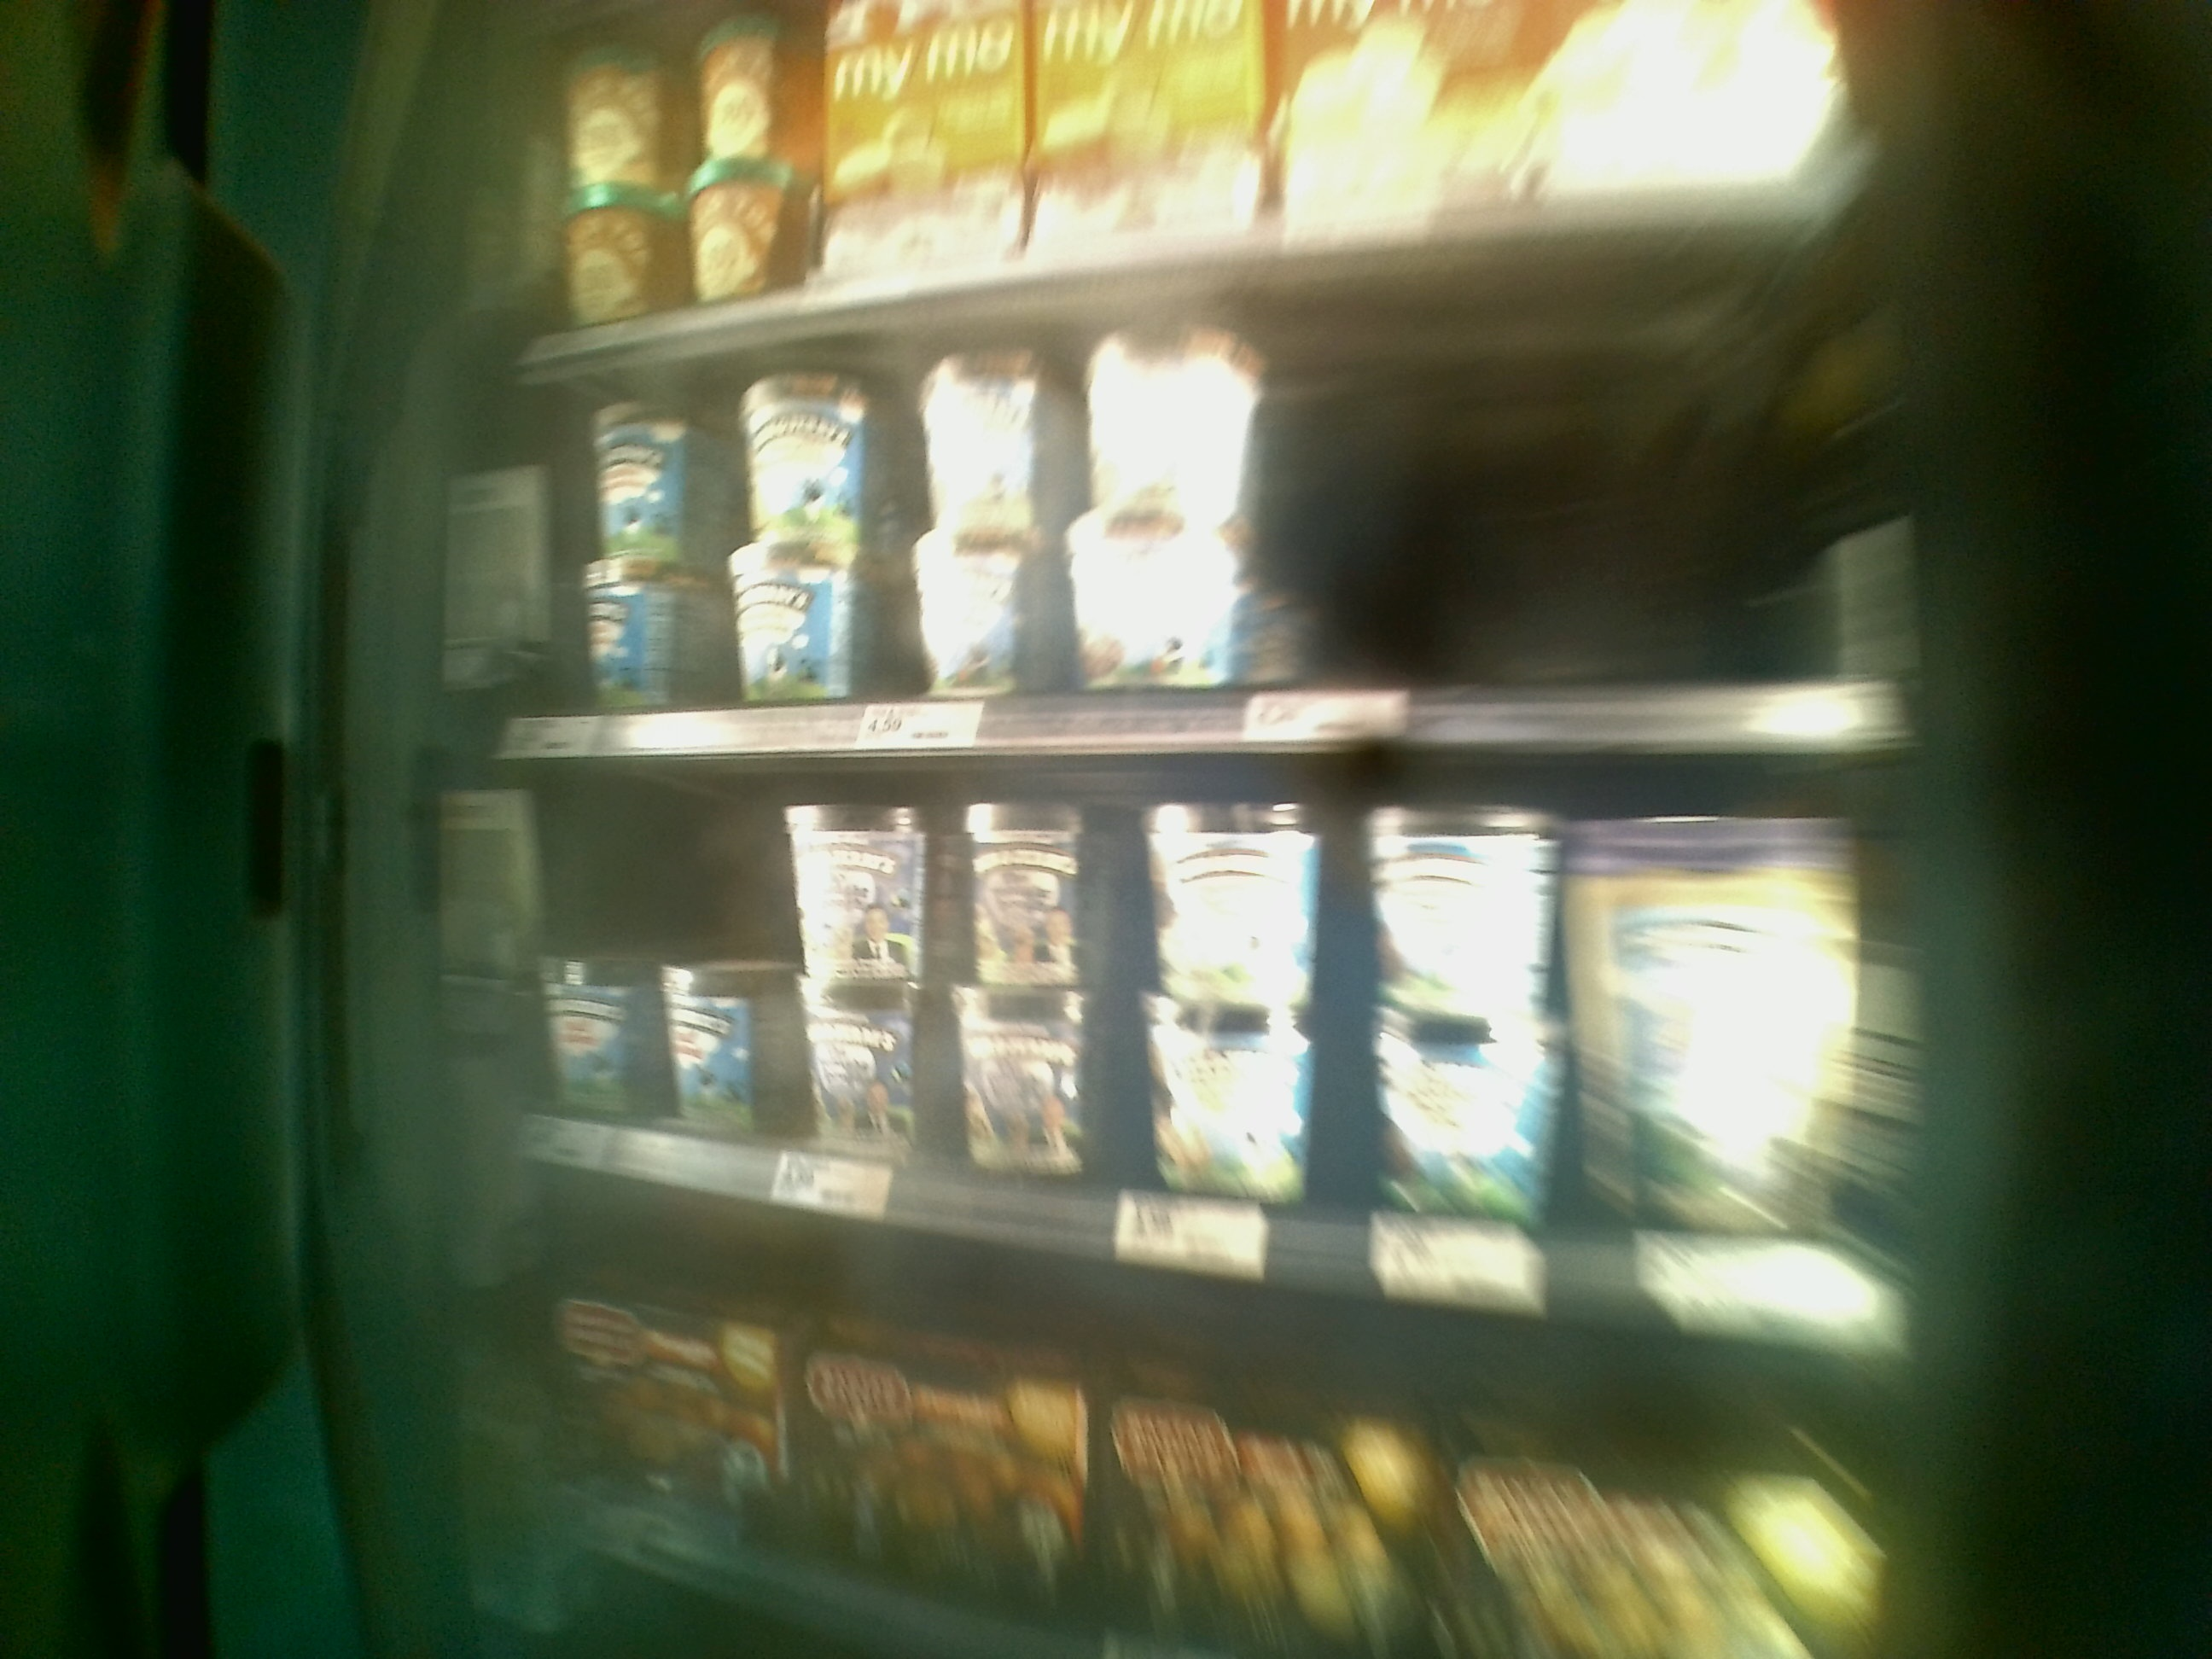shelf: (488, 727, 1911, 1300), (477, 343, 1900, 727)
